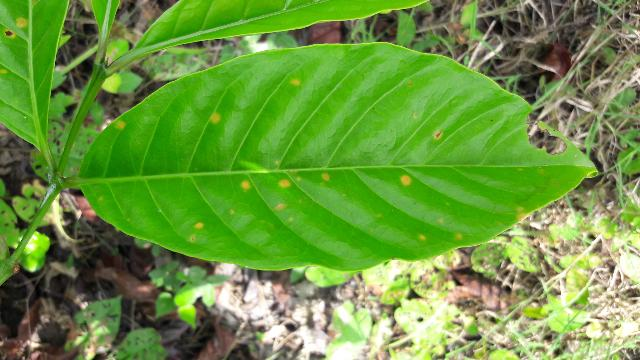rust_level_2: (75, 42, 596, 272)
